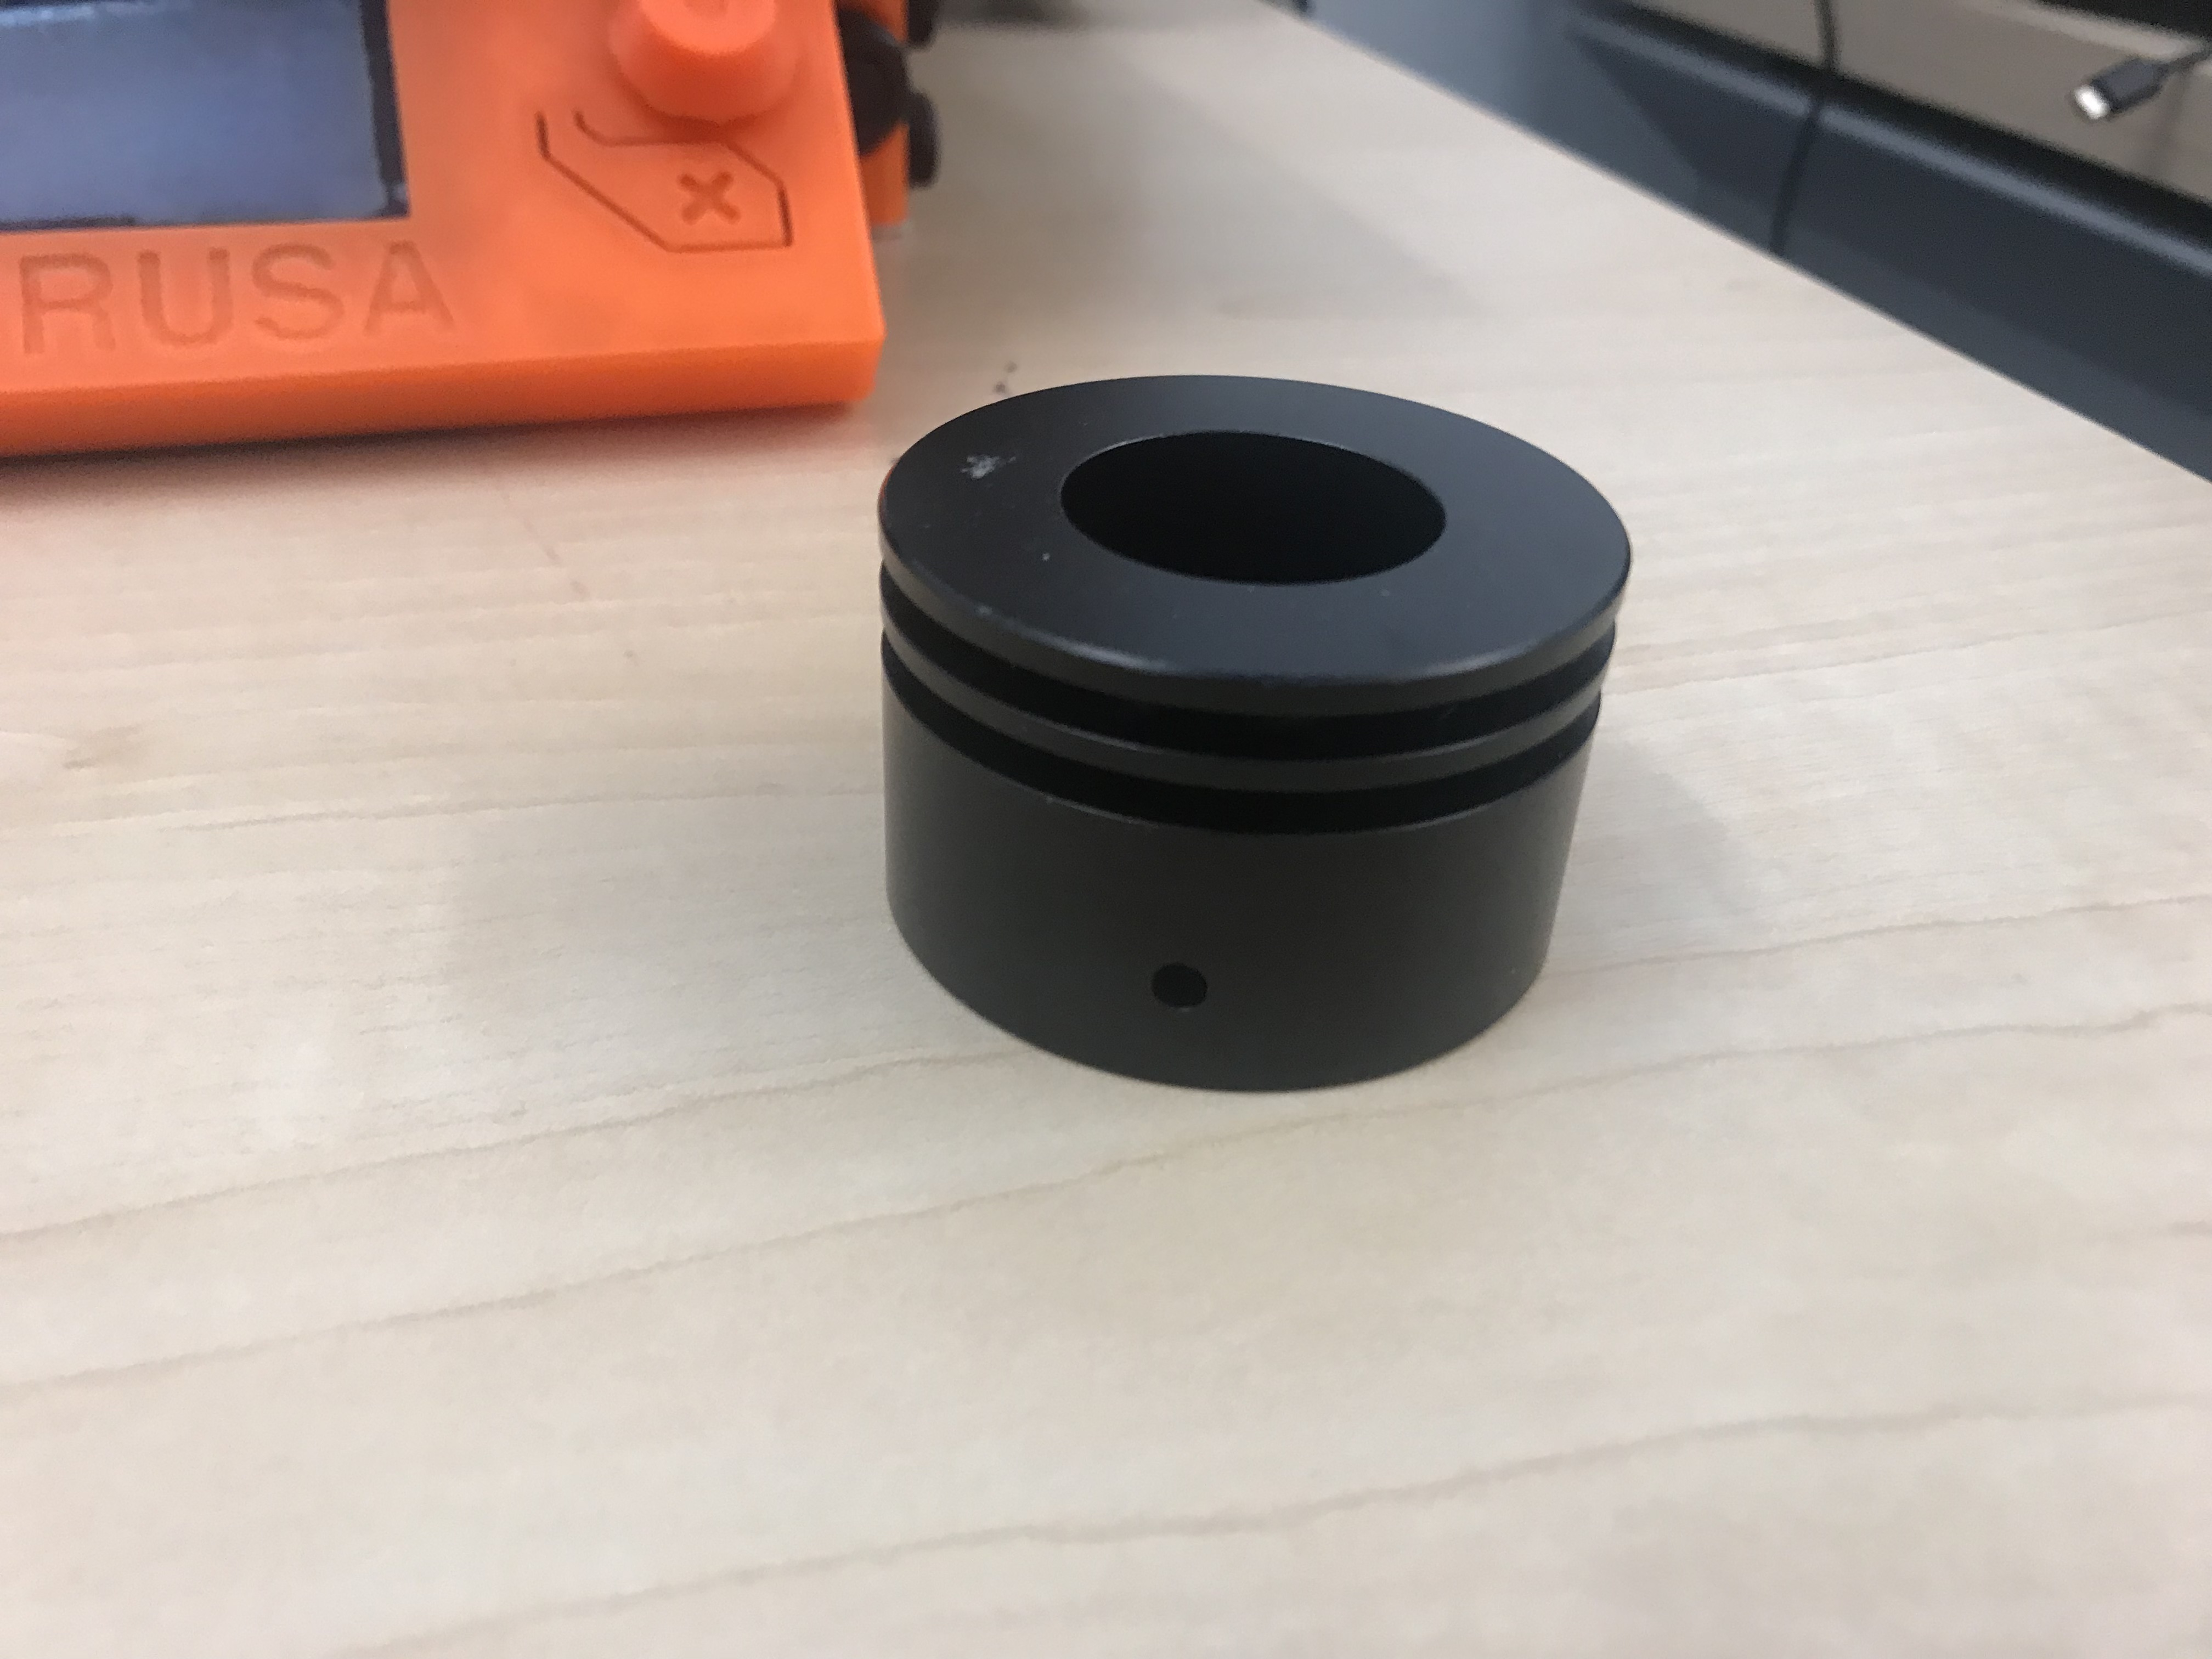pillar1: (864, 359, 1649, 1122)
